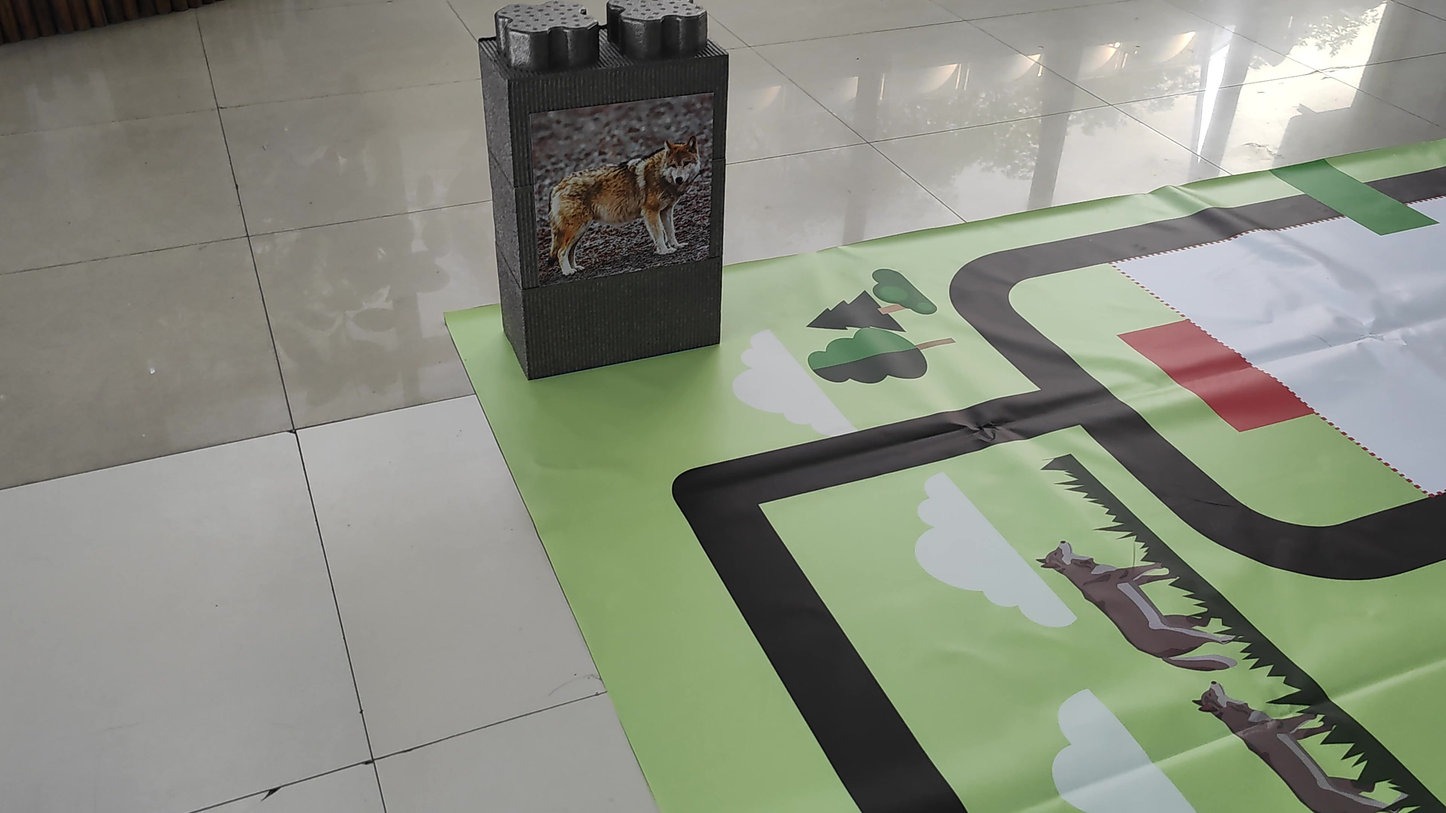wolf: (540, 138, 713, 294)
